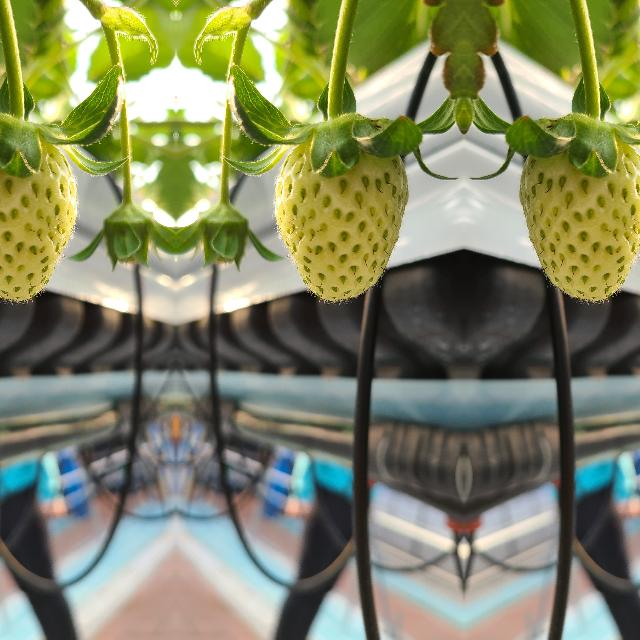Health_25: (270, 137, 410, 306), (516, 136, 640, 305), (0, 136, 79, 305)
